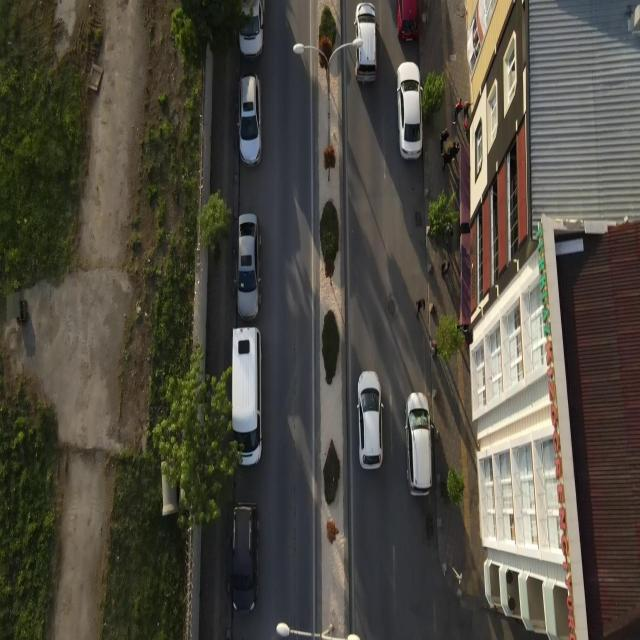p3rson: (452, 96, 463, 125), (440, 127, 450, 154), (416, 297, 426, 317), (442, 149, 450, 171), (450, 141, 456, 163), (442, 258, 449, 276), (456, 142, 460, 156)
